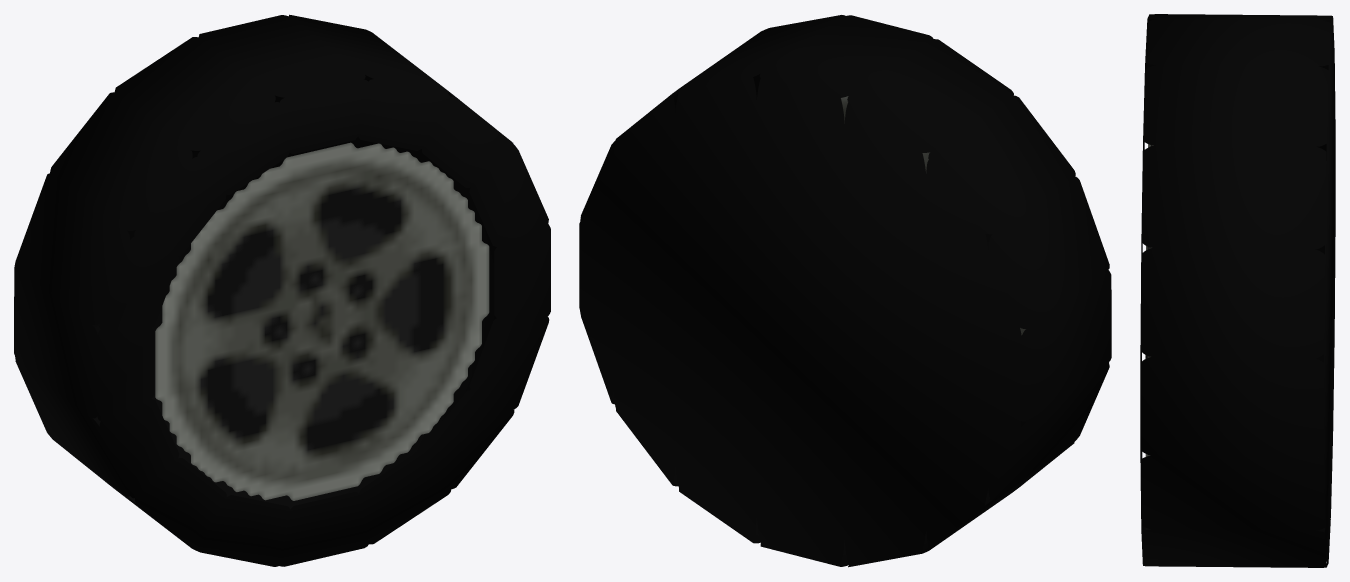
Rendered from porsche_ds.obj.
3 renders of one model, left to right at view 1: azimuth 30°, elevation 25°; view 2: azimuth 150°, elevation 25°; view 3: azimuth 270°, elevation 25°, orthographic. The views are drawn at different scales.
Visible parts, largest first — view 1: buc1n.004_buc1n.000; view 2: buc1n.004_buc1n.000; view 3: buc1n.004_buc1n.000.
Boxes of the visible parts, x1,y1,x2,y2 form: buc1n.004_buc1n.000: [14, 14, 550, 566]; buc1n.004_buc1n.000: [579, 15, 1111, 567]; buc1n.004_buc1n.000: [1140, 14, 1335, 567].
Bounding box in the file's own units: 0.519 × 0.5155 × 0.1836.
Materials: 2 (2 with a texture image).
